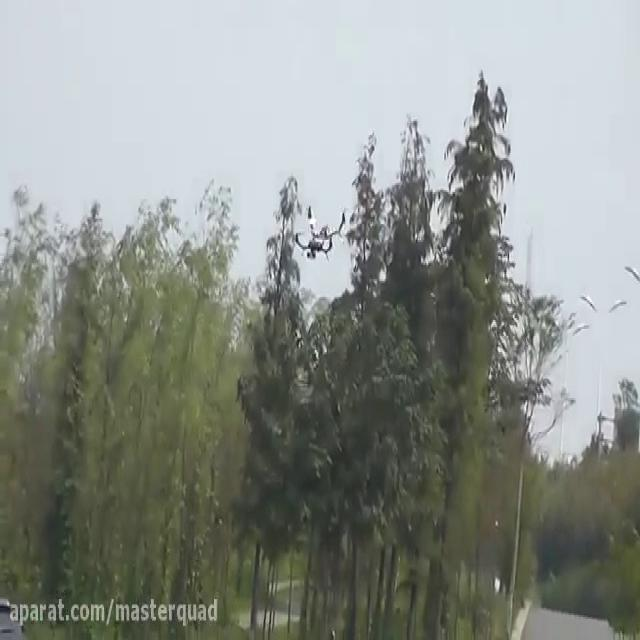drone: (287, 199, 350, 260)
